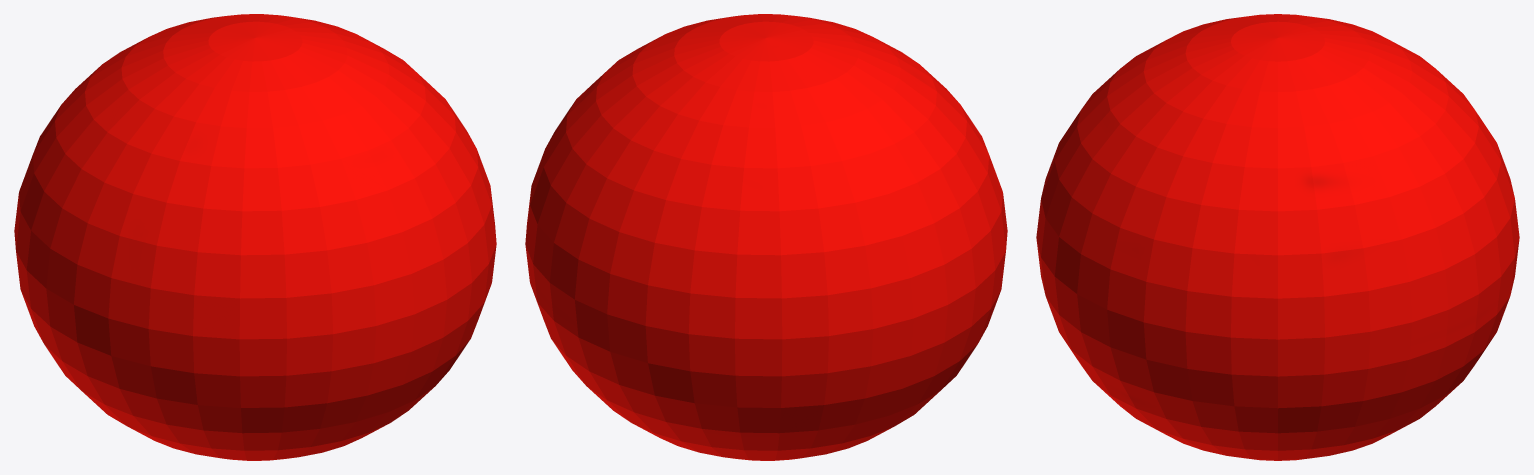
The model's file is redball.obj.
3 views of the same model, side by side, from view 1: azimuth 30°, elevation 25°; view 2: azimuth 150°, elevation 25°; view 3: azimuth 270°, elevation 25° (orthographic).
Parts seen in each view (by area): view 1: Sphere_Sphere.001; view 2: Sphere_Sphere.001; view 3: Sphere_Sphere.001.
Boxes of the visible parts, x1,y1,x2,y2 form: Sphere_Sphere.001: (14,14,496,460); Sphere_Sphere.001: (525,14,1007,460); Sphere_Sphere.001: (1036,14,1519,460).
Size of the model in its own units: 2.76 by 2.52 by 2.76.
Materials: 1 (1 with a texture image).
